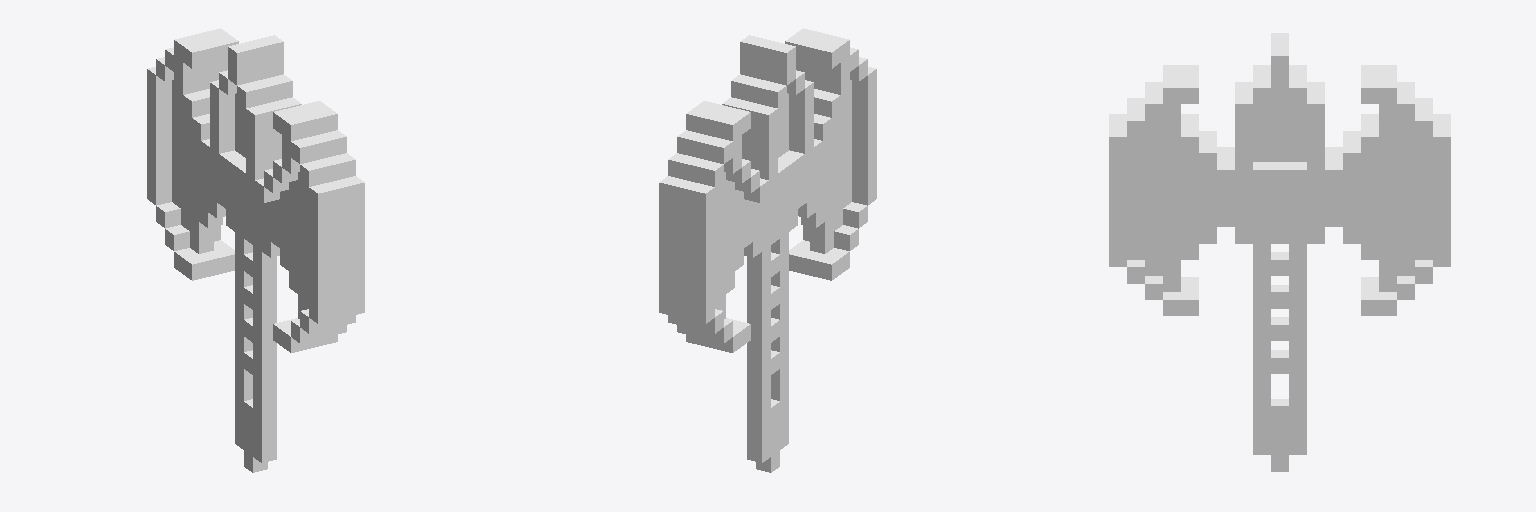
Rendered from Axe_lvl3.obj.
3 renders of one model, left to right at view 1: azimuth 30°, elevation 25°; view 2: azimuth 150°, elevation 25°; view 3: azimuth 270°, elevation 25°, orthographic.
Visible parts, largest first — view 1: object 1; view 2: object 1; view 3: object 1.
Boxes of the visible parts, <box> form: object 1: <box>147,28,364,472</box>; object 1: <box>659,28,876,472</box>; object 1: <box>1109,33,1450,471</box>.
Bounding box in the file's own units: 0.3 × 2.6 × 1.9.